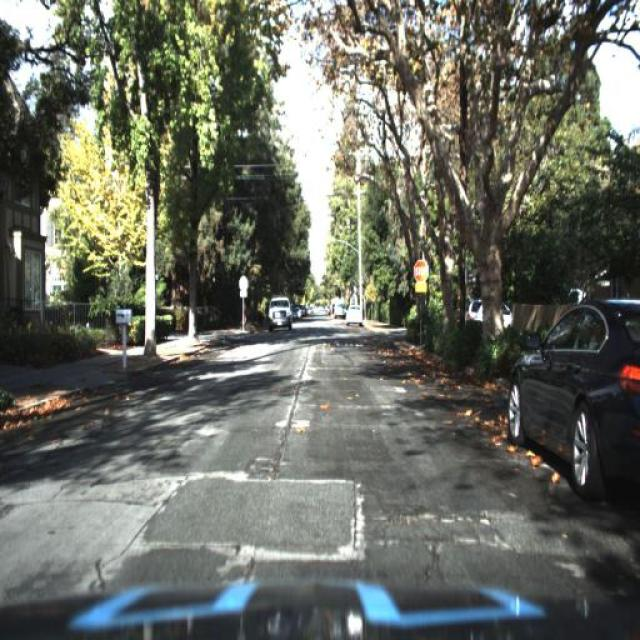car: (500, 292, 639, 510), (261, 294, 291, 336), (341, 301, 365, 328), (339, 302, 360, 328)
